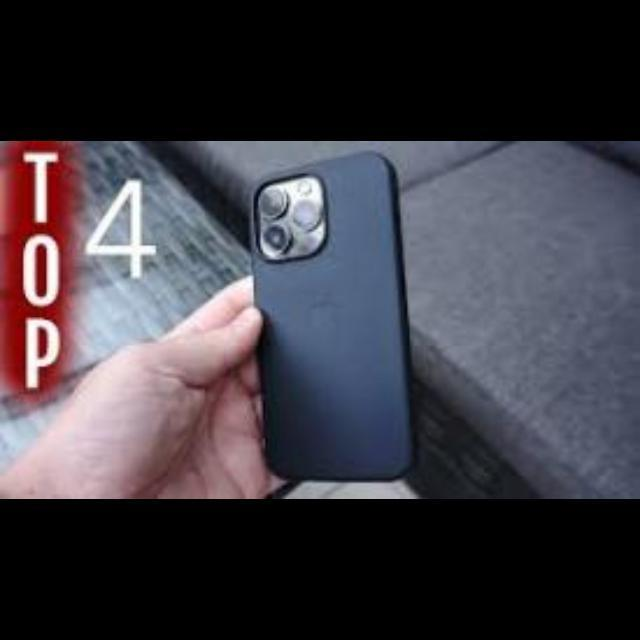PhoneUse: (252, 151, 418, 481)
